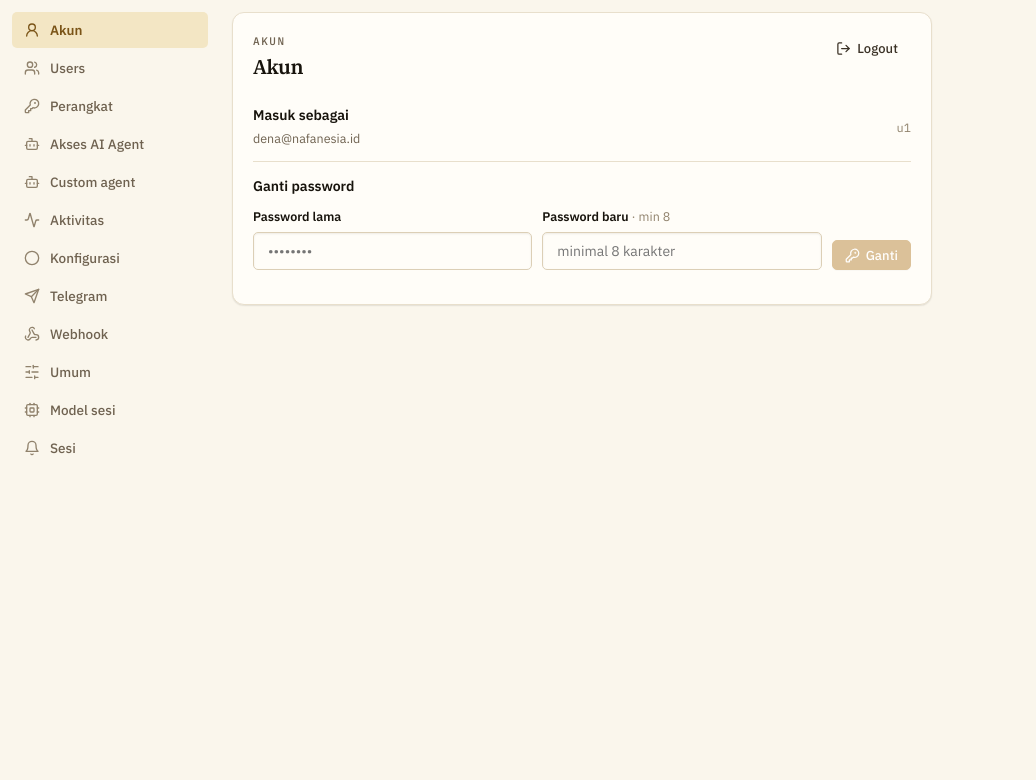
Test: SPEC-383 · kartu default sesi konflik › kartu ada di tab Model sesi
Click the button "Model sesi": (110, 410) x1=12 y1=392 x2=208 y2=428
(page scrolled)
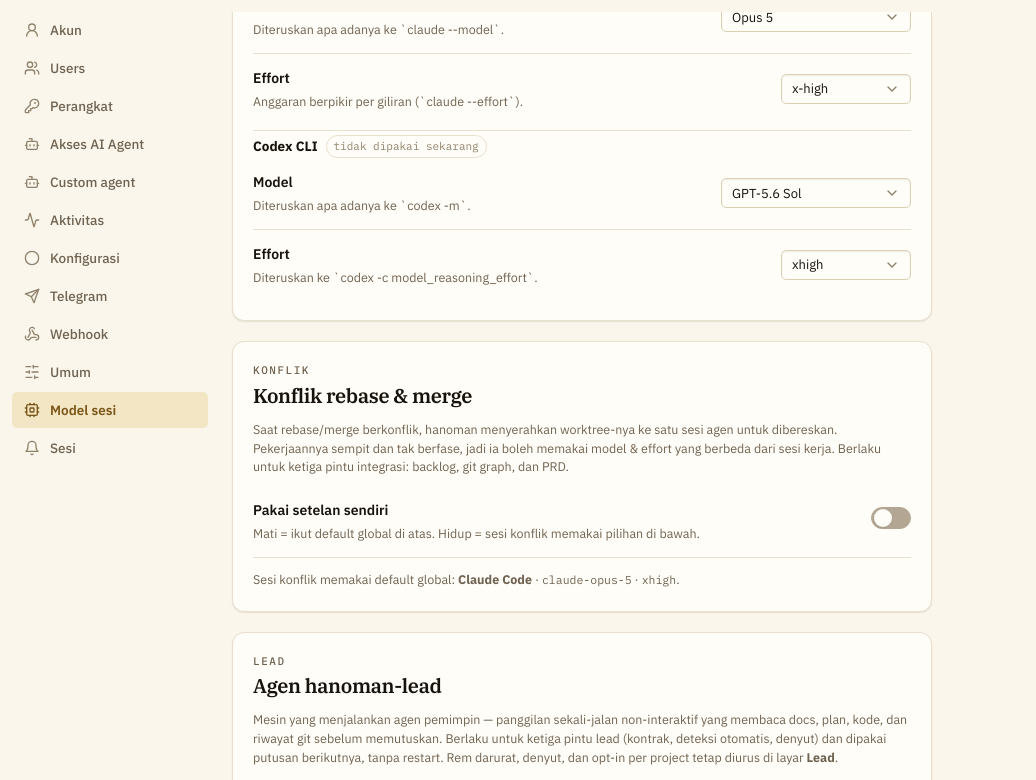
Check: the text "Konflik rebase & merge" is shown, box x1=253 y1=384 x2=472 y2=408
